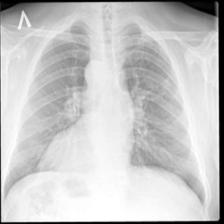tuberculosis: (3, 15, 208, 212)
